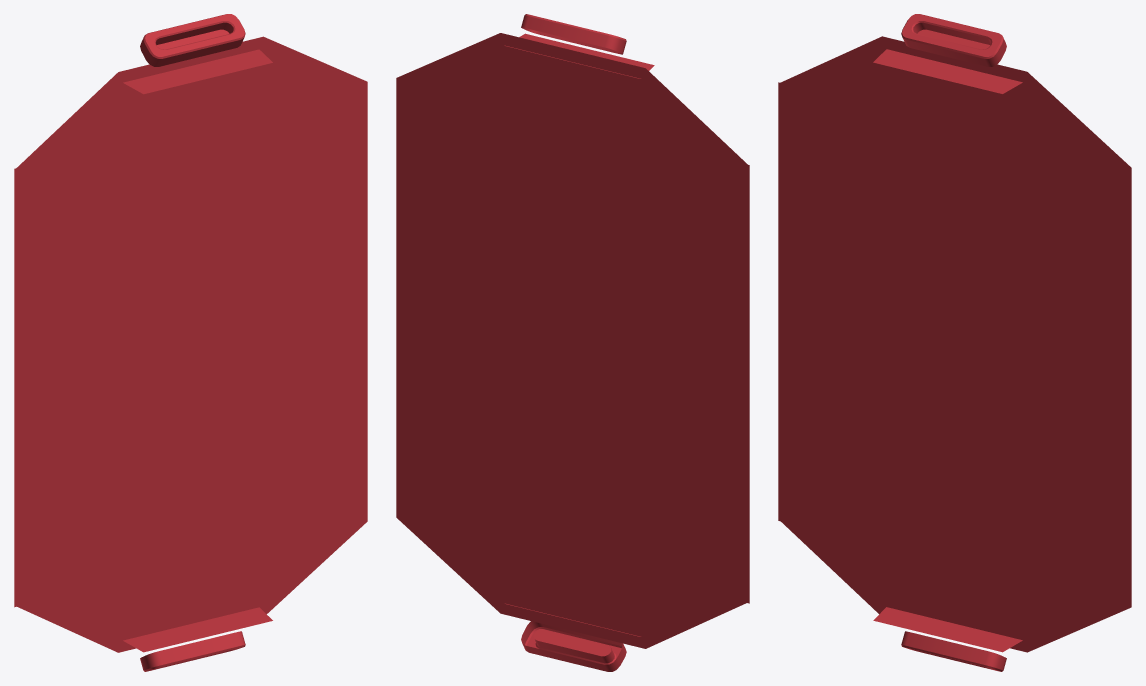
File: bgr_airhockey_ground_geo.glb
3 renders of one model, left to right at view 1: azimuth 30°, elevation 25°; view 2: azimuth 150°, elevation 25°; view 3: azimuth 330°, elevation 25°, orthographic.
Visible parts, largest first — view 1: airhockey_ice_Ground, airhockey_Ground, airhockey_front_foundation; view 2: airhockey_ice_Ground, airhockey_Ground, airhockey_front_foundation; view 3: airhockey_ice_Ground, airhockey_Ground, airhockey_front_foundation.
Boxes of the visible parts, x1=… form: airhockey_ice_Ground: x1=14, y1=103, x2=353, y2=607; airhockey_Ground: x1=15, y1=36, x2=367, y2=652; airhockey_front_foundation: x1=123, y1=14, x2=272, y2=671; airhockey_ice_Ground: x1=396, y1=79, x2=749, y2=603; airhockey_Ground: x1=396, y1=33, x2=747, y2=648; airhockey_front_foundation: x1=504, y1=14, x2=654, y2=671; airhockey_ice_Ground: x1=778, y1=82, x2=1117, y2=586; airhockey_Ground: x1=779, y1=36, x2=1131, y2=652; airhockey_front_foundation: x1=873, y1=14, x2=1022, y2=671.
Size of the model in its own units: 21.79 by 37.58 by 2.64.
